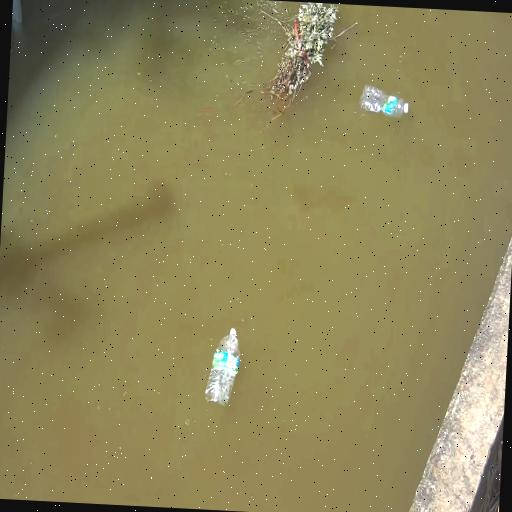plastic: (206, 329, 240, 405), (360, 86, 408, 116)
twig: (235, 0, 360, 124)
